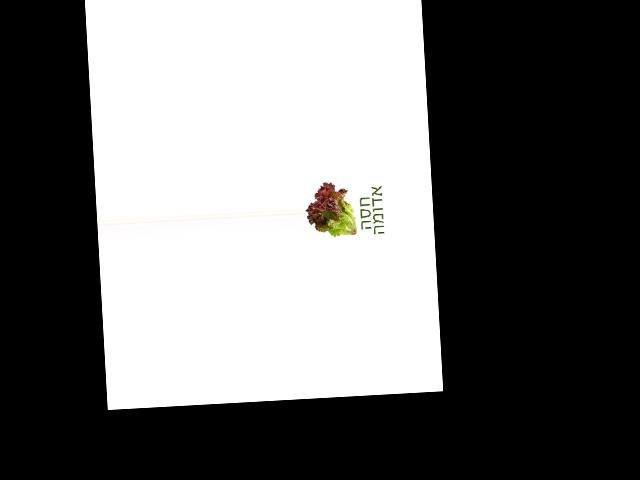lettuce: (304, 179, 359, 243)
